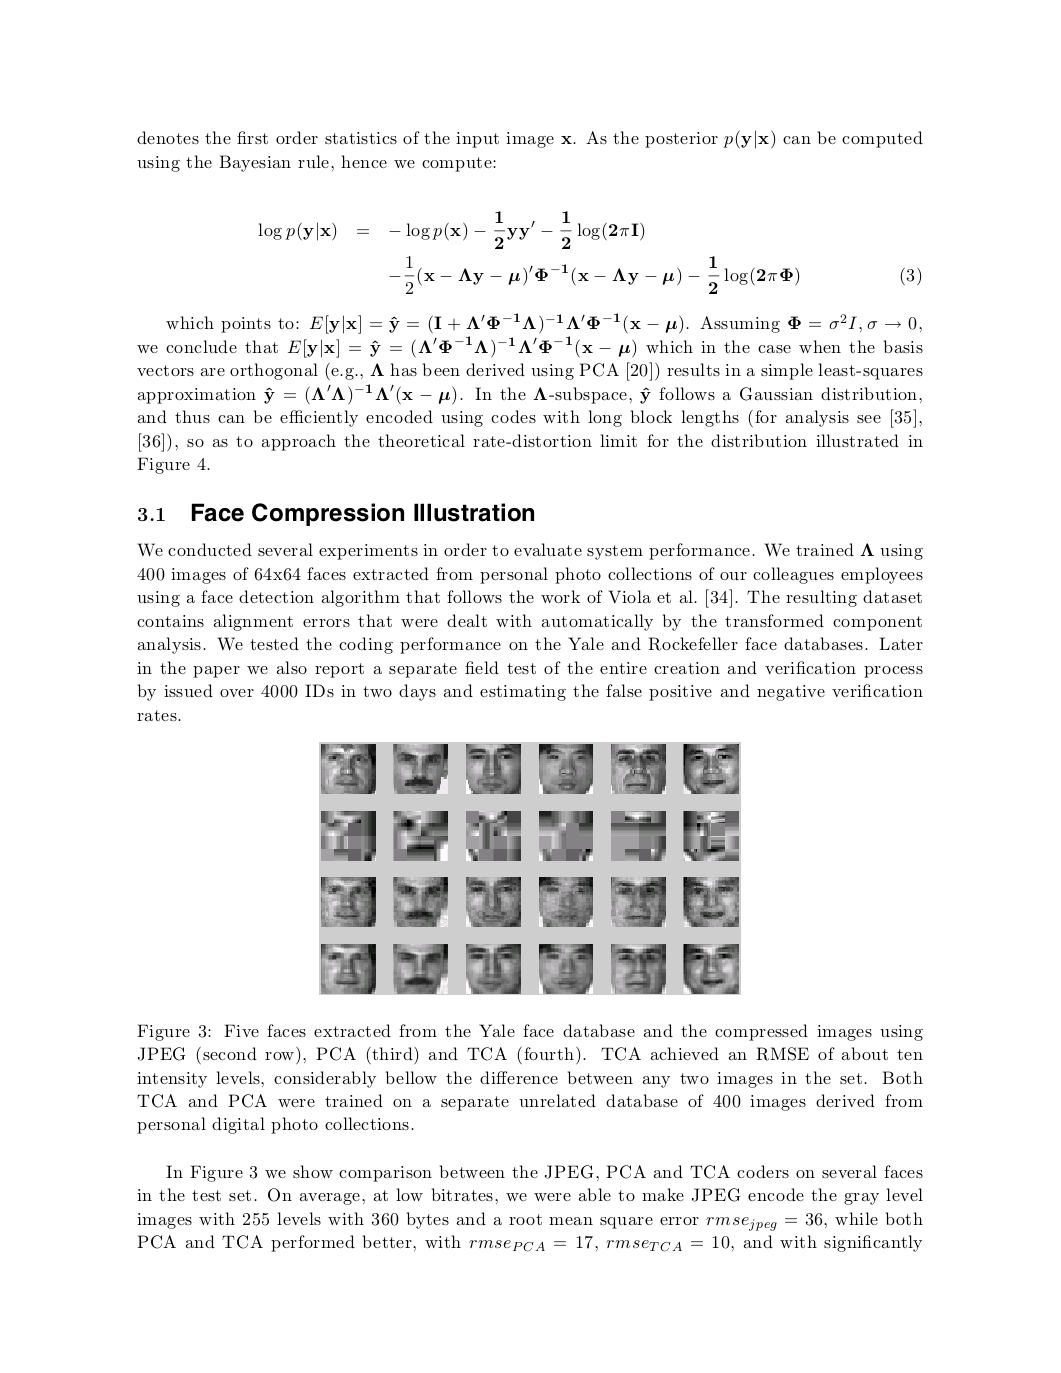figure: (319, 741, 740, 995)
formula: (389, 255, 921, 294), (257, 210, 644, 249)
